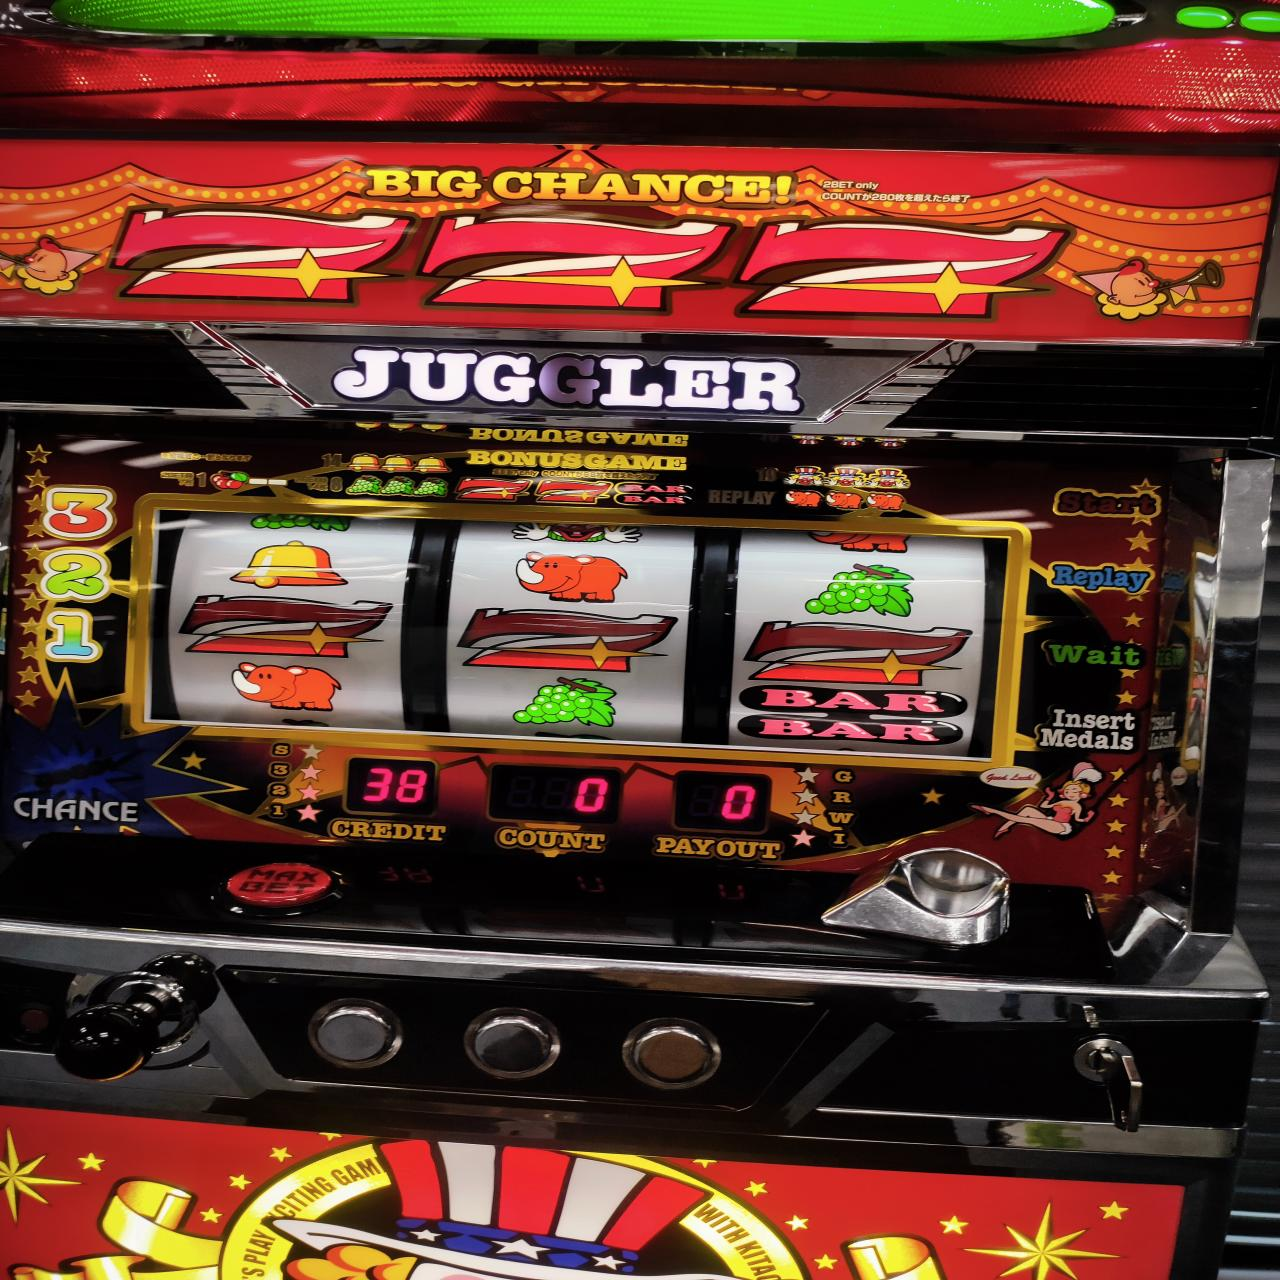7: (750, 611, 973, 685), (181, 592, 393, 663), (464, 605, 675, 676)
8: (515, 552, 635, 605), (230, 662, 345, 713)
Display: (149, 501, 1009, 767)
bar: (731, 681, 965, 750)
bell: (234, 538, 348, 591)
grape: (808, 561, 914, 618), (515, 676, 614, 727)
